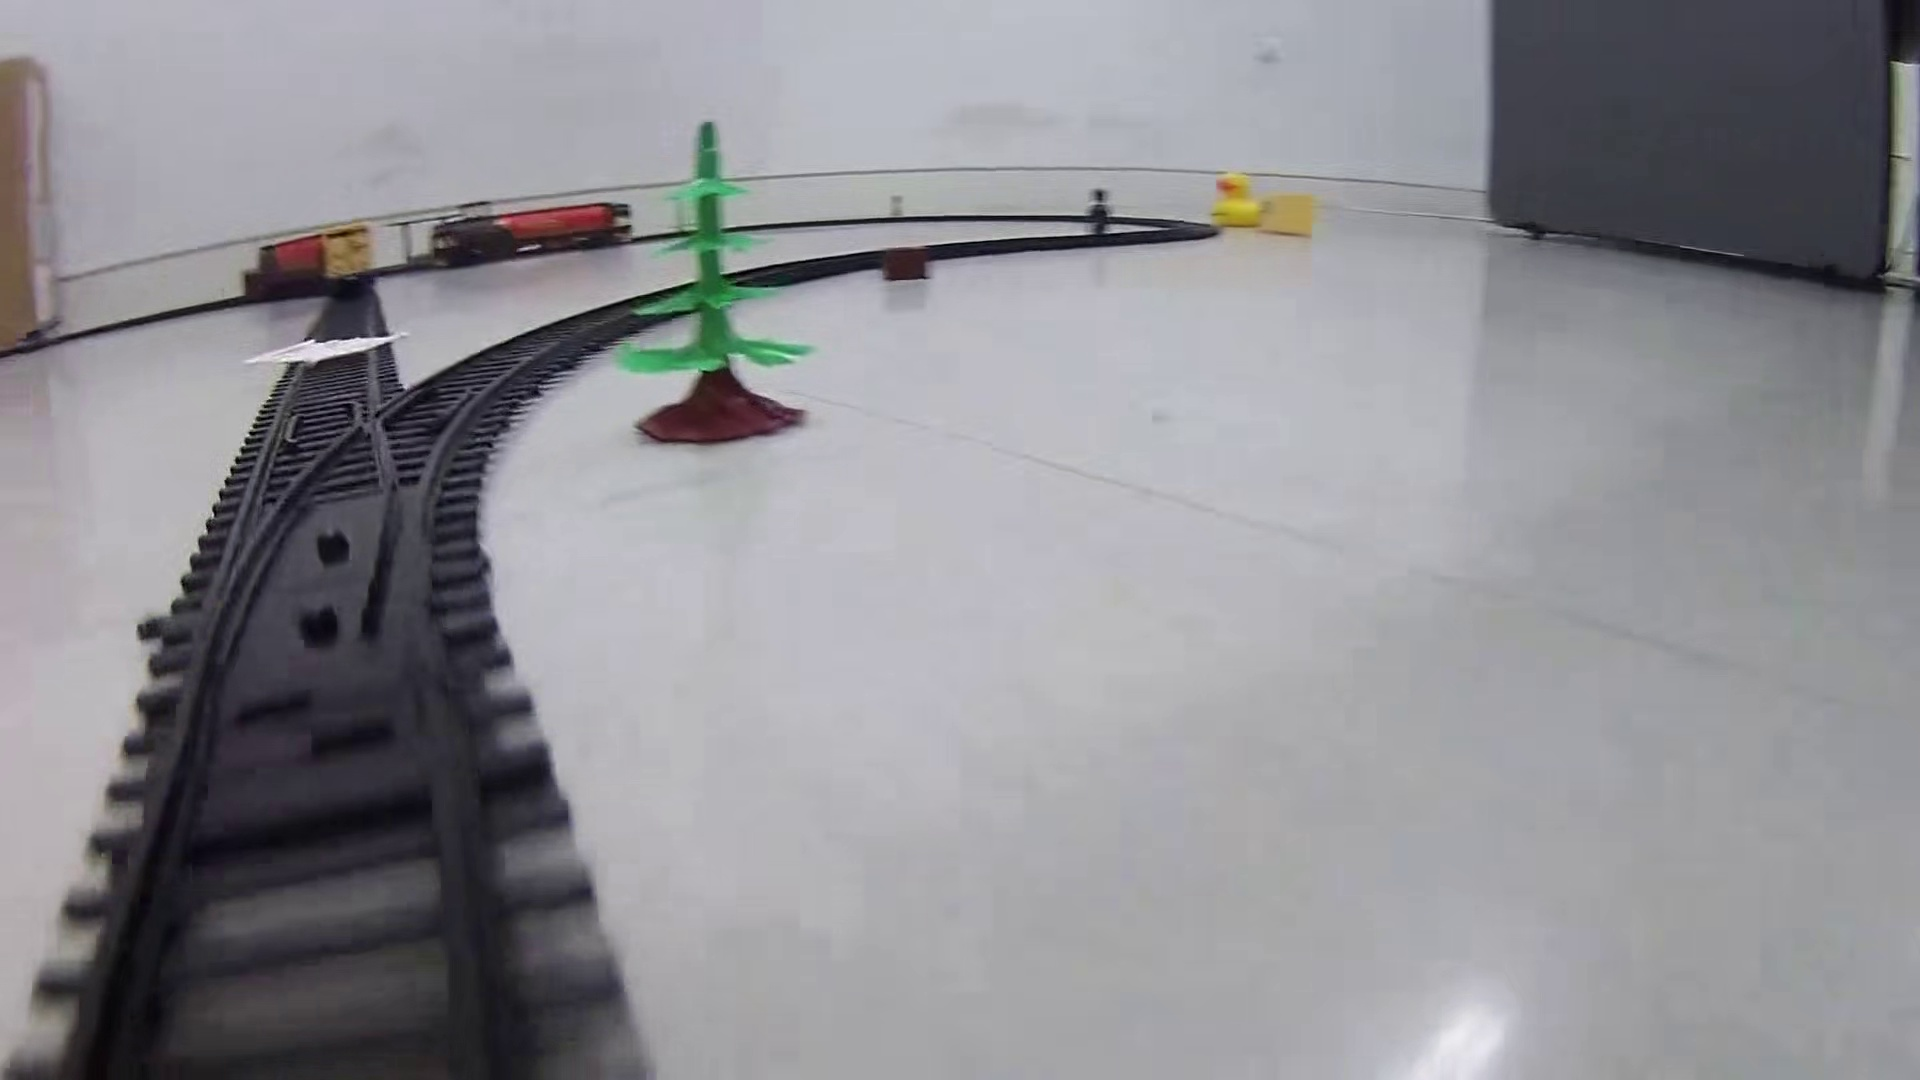box: (877, 242, 938, 288)
people: (1083, 183, 1116, 250)
tree: (622, 119, 817, 451)
web: (233, 324, 412, 372)
